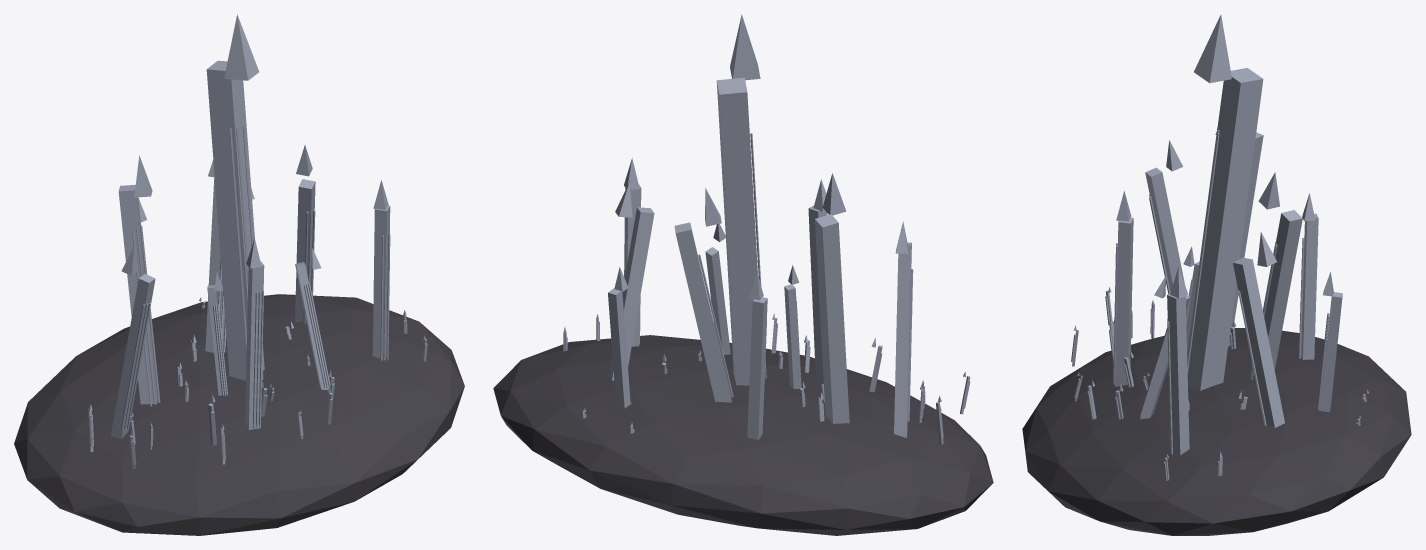
The model's file is stibnite.glb.
3 renders of one model, left to right at view 1: azimuth 30°, elevation 25°; view 2: azimuth 150°, elevation 25°; view 3: azimuth 270°, elevation 25°, orthographic. The views are drawn at different scales.
Parts seen in each view (by area): view 1: Stibnite; view 2: Stibnite; view 3: Stibnite.
Boxes of the visible parts, left/top/right/bottom form: Stibnite: left=14, top=14, right=464, bottom=535; Stibnite: left=493, top=14, right=993, bottom=535; Stibnite: left=1022, top=15, right=1411, bottom=535.
Bounding box in the file's own units: 3.96 × 4.08 × 3.03.
